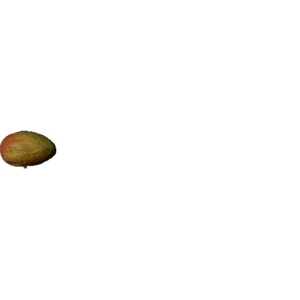mamão: (2, 126, 58, 175)
